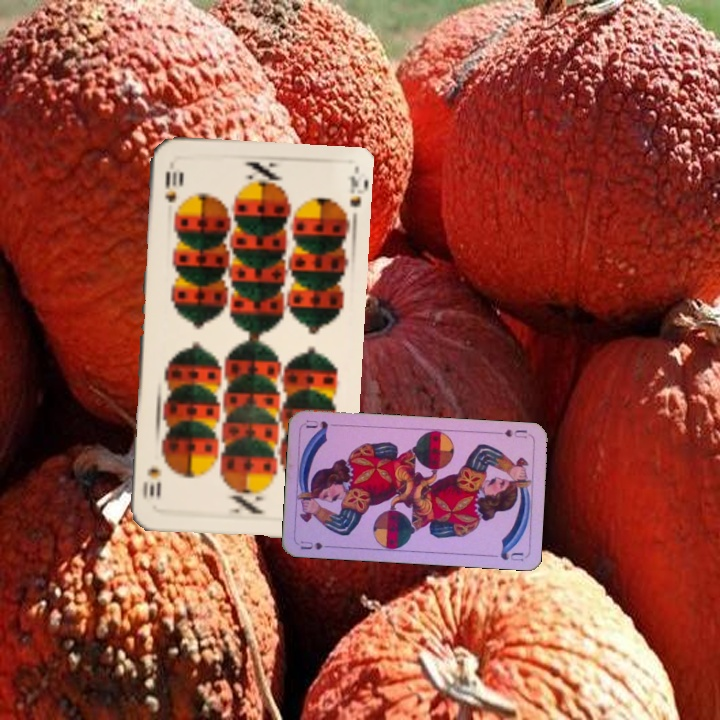S10: (161, 167, 180, 205)
SU: (491, 425, 530, 441), (297, 537, 337, 552)
